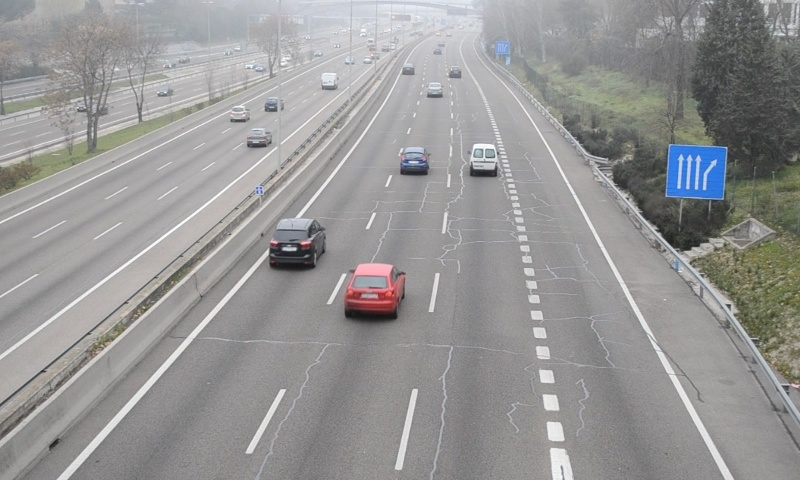car: (342, 264, 404, 318), (269, 218, 324, 268), (400, 147, 430, 176), (426, 81, 442, 97)
van: (469, 143, 498, 174)
